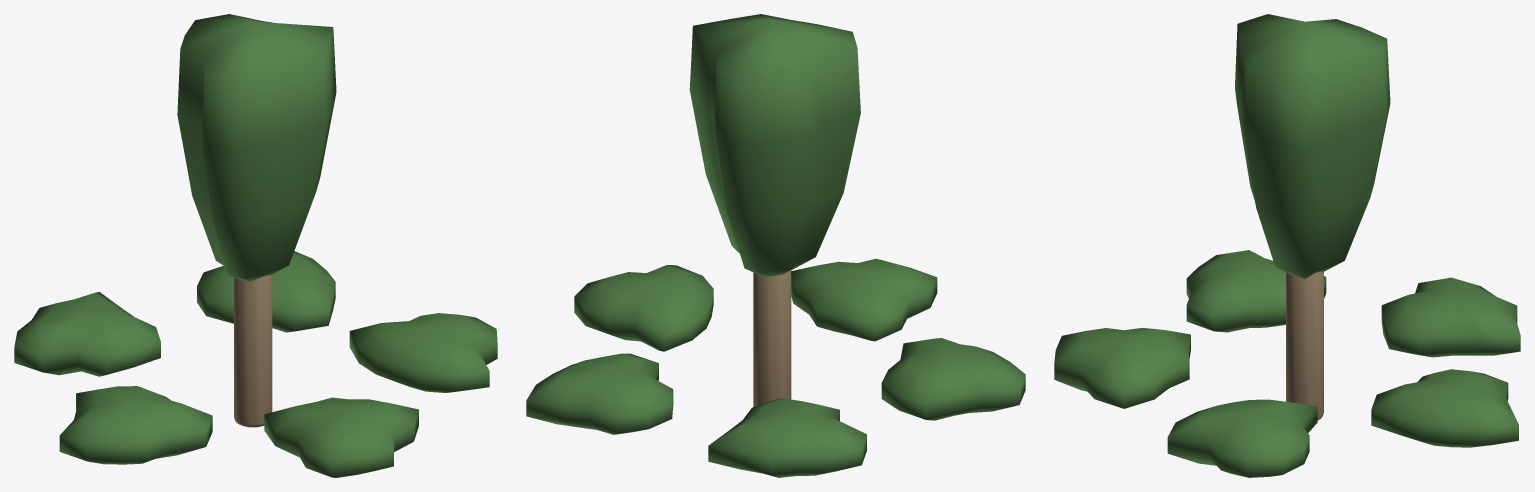
The model's file is shrub_06.glb.
The picture shows the model from 3 angles, left to right: view 1: azimuth 30°, elevation 25°; view 2: azimuth 150°, elevation 25°; view 3: azimuth 270°, elevation 25°; orthographic projection.
Parts seen in each view (by area): view 1: Tint, Standard stem; view 2: Tint, Standard stem; view 3: Tint, Standard stem.
Part boxes in pixels (x1,y1,x2,y2): Tint: (14, 14, 497, 477); Standard stem: (234, 274, 272, 427); Tint: (526, 14, 1025, 477); Standard stem: (753, 270, 791, 406); Tint: (1054, 14, 1520, 477); Standard stem: (1286, 271, 1323, 420).
Size of the model in its own units: 0.8692 by 0.76 by 0.8127.
